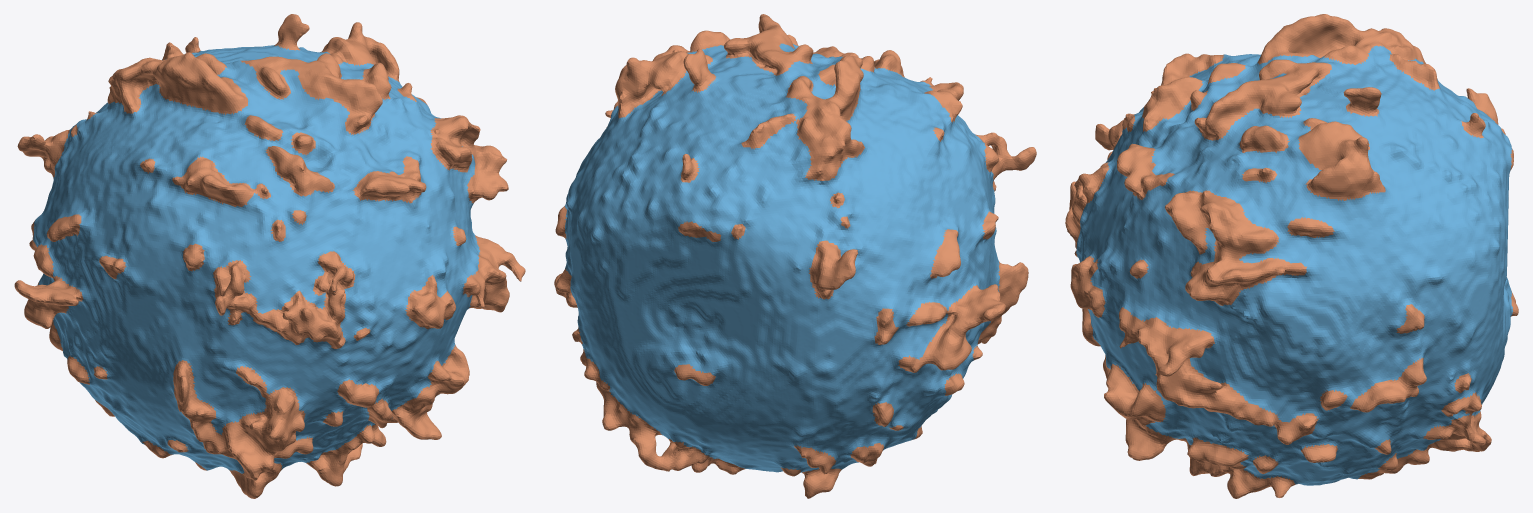
3 views of the same model, side by side, from view 1: azimuth 30°, elevation 25°; view 2: azimuth 150°, elevation 25°; view 3: azimuth 270°, elevation 25° (orthographic). The views are drawn at different scales.
Size of the model in its own units: 167 by 157 by 149.
